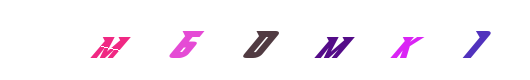0: (224, 0, 304, 80)
1: (348, 0, 428, 80)
6: (221, 0, 301, 80)
K: (233, 0, 313, 80)
M: (70, 0, 150, 80), (231, 0, 311, 80)
